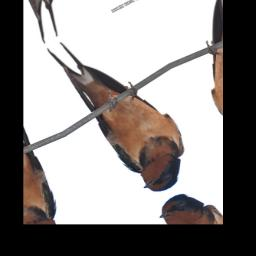Swallow: (45, 11, 203, 210)
